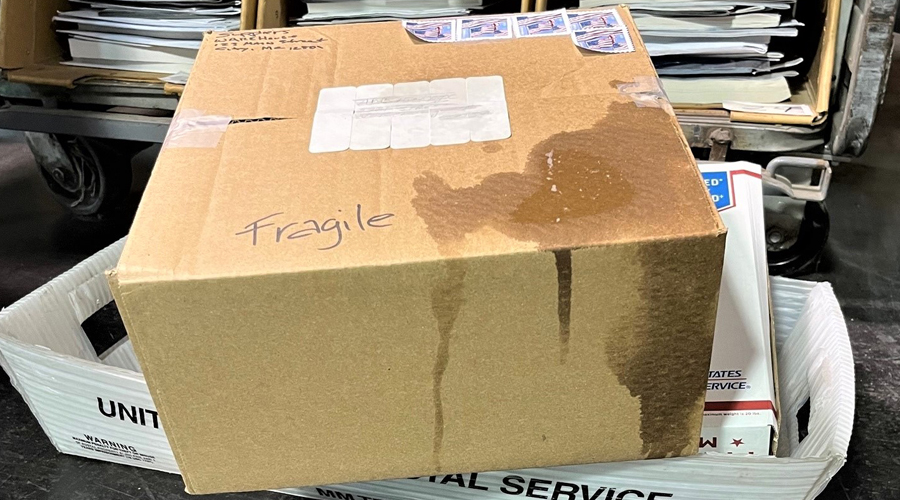box: (226, 205, 608, 492), (499, 55, 849, 302), (330, 1, 581, 179), (667, 211, 862, 352), (166, 13, 323, 124), (59, 1, 229, 62)
